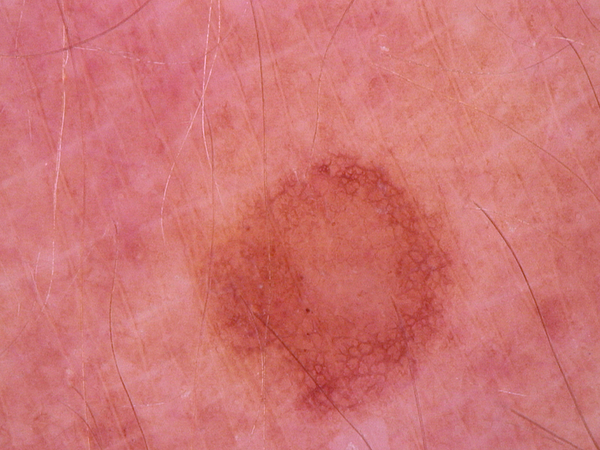Detected Lesion: (190, 145, 456, 428)
